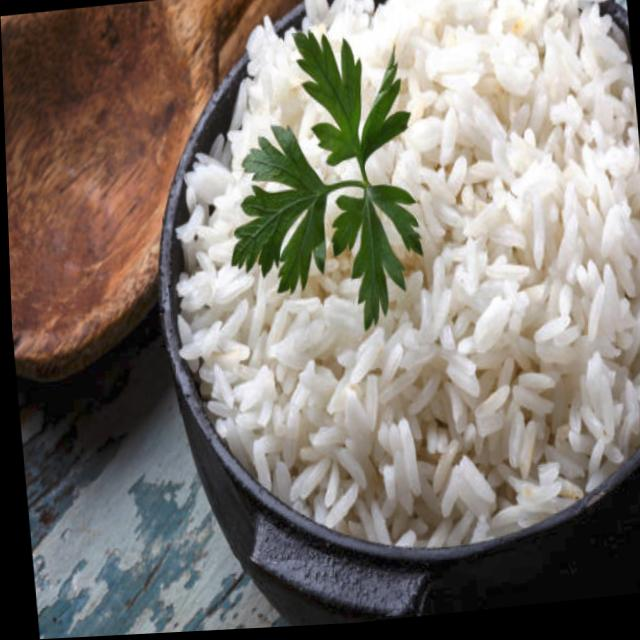rice: (146, 0, 640, 577)
